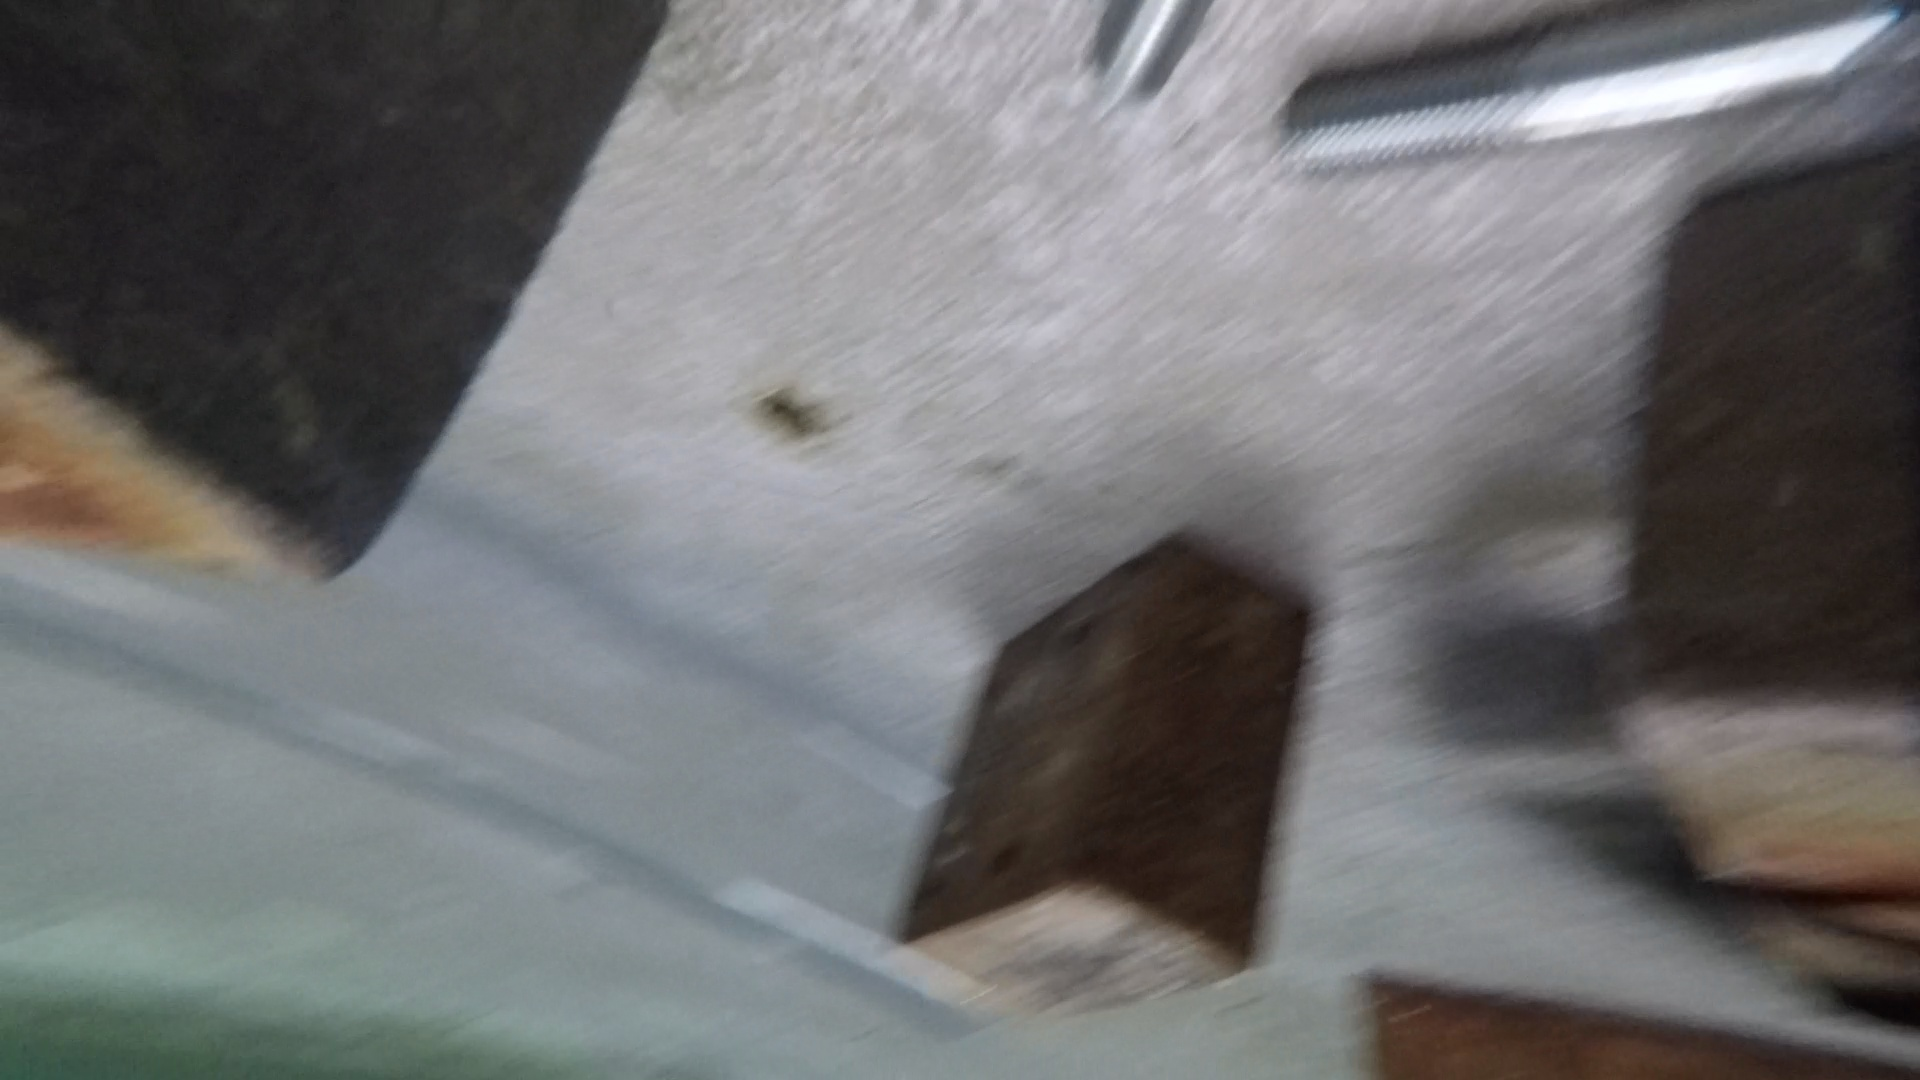bolt: (1280, 1, 1919, 169), (1085, 1, 1208, 100)
led_block: (1, 1, 675, 589), (1604, 138, 1917, 905), (893, 526, 1315, 1022)
